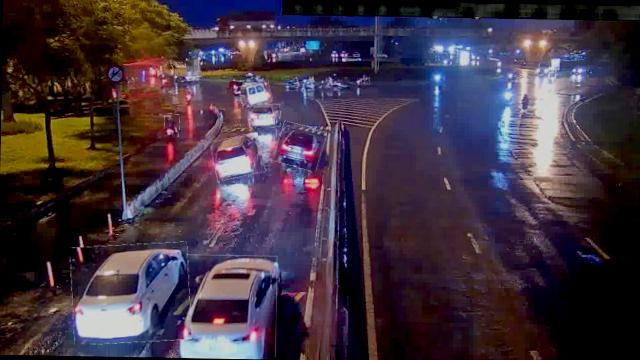Bike: (163, 114, 179, 138)
Bus: (240, 81, 272, 107)
Car: (69, 241, 191, 344), (177, 254, 277, 357), (211, 134, 264, 180), (276, 122, 326, 169), (250, 103, 280, 127)
